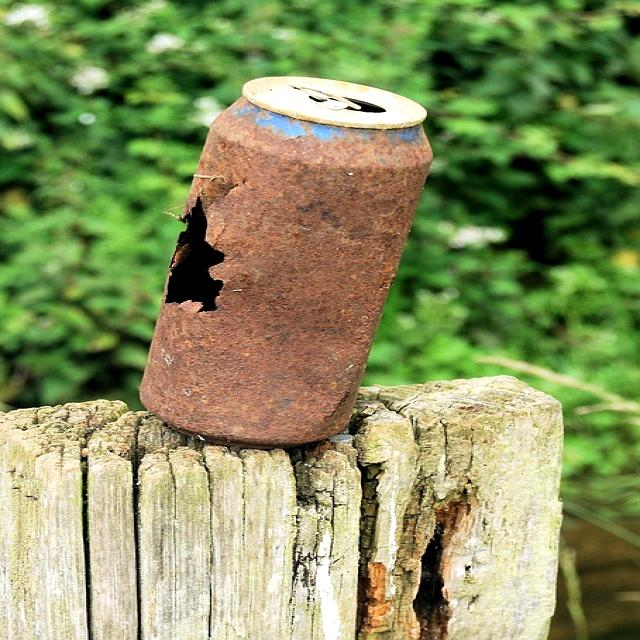Metal: (127, 62, 445, 457)
